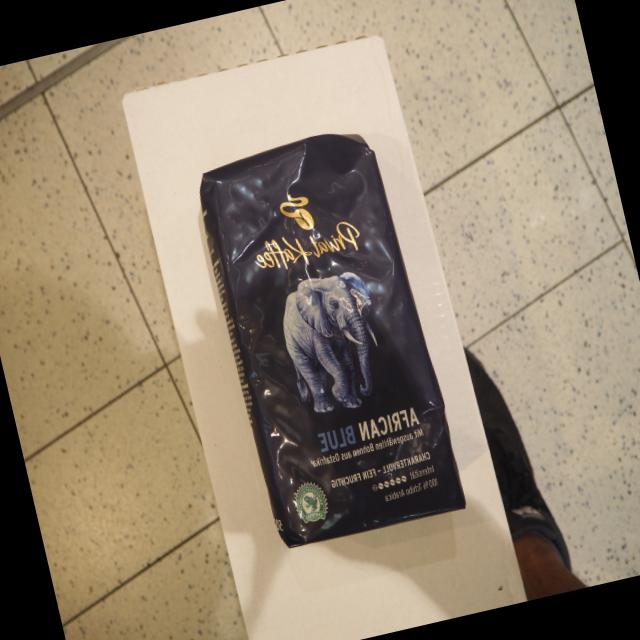AB Bohne: (183, 115, 473, 556)
